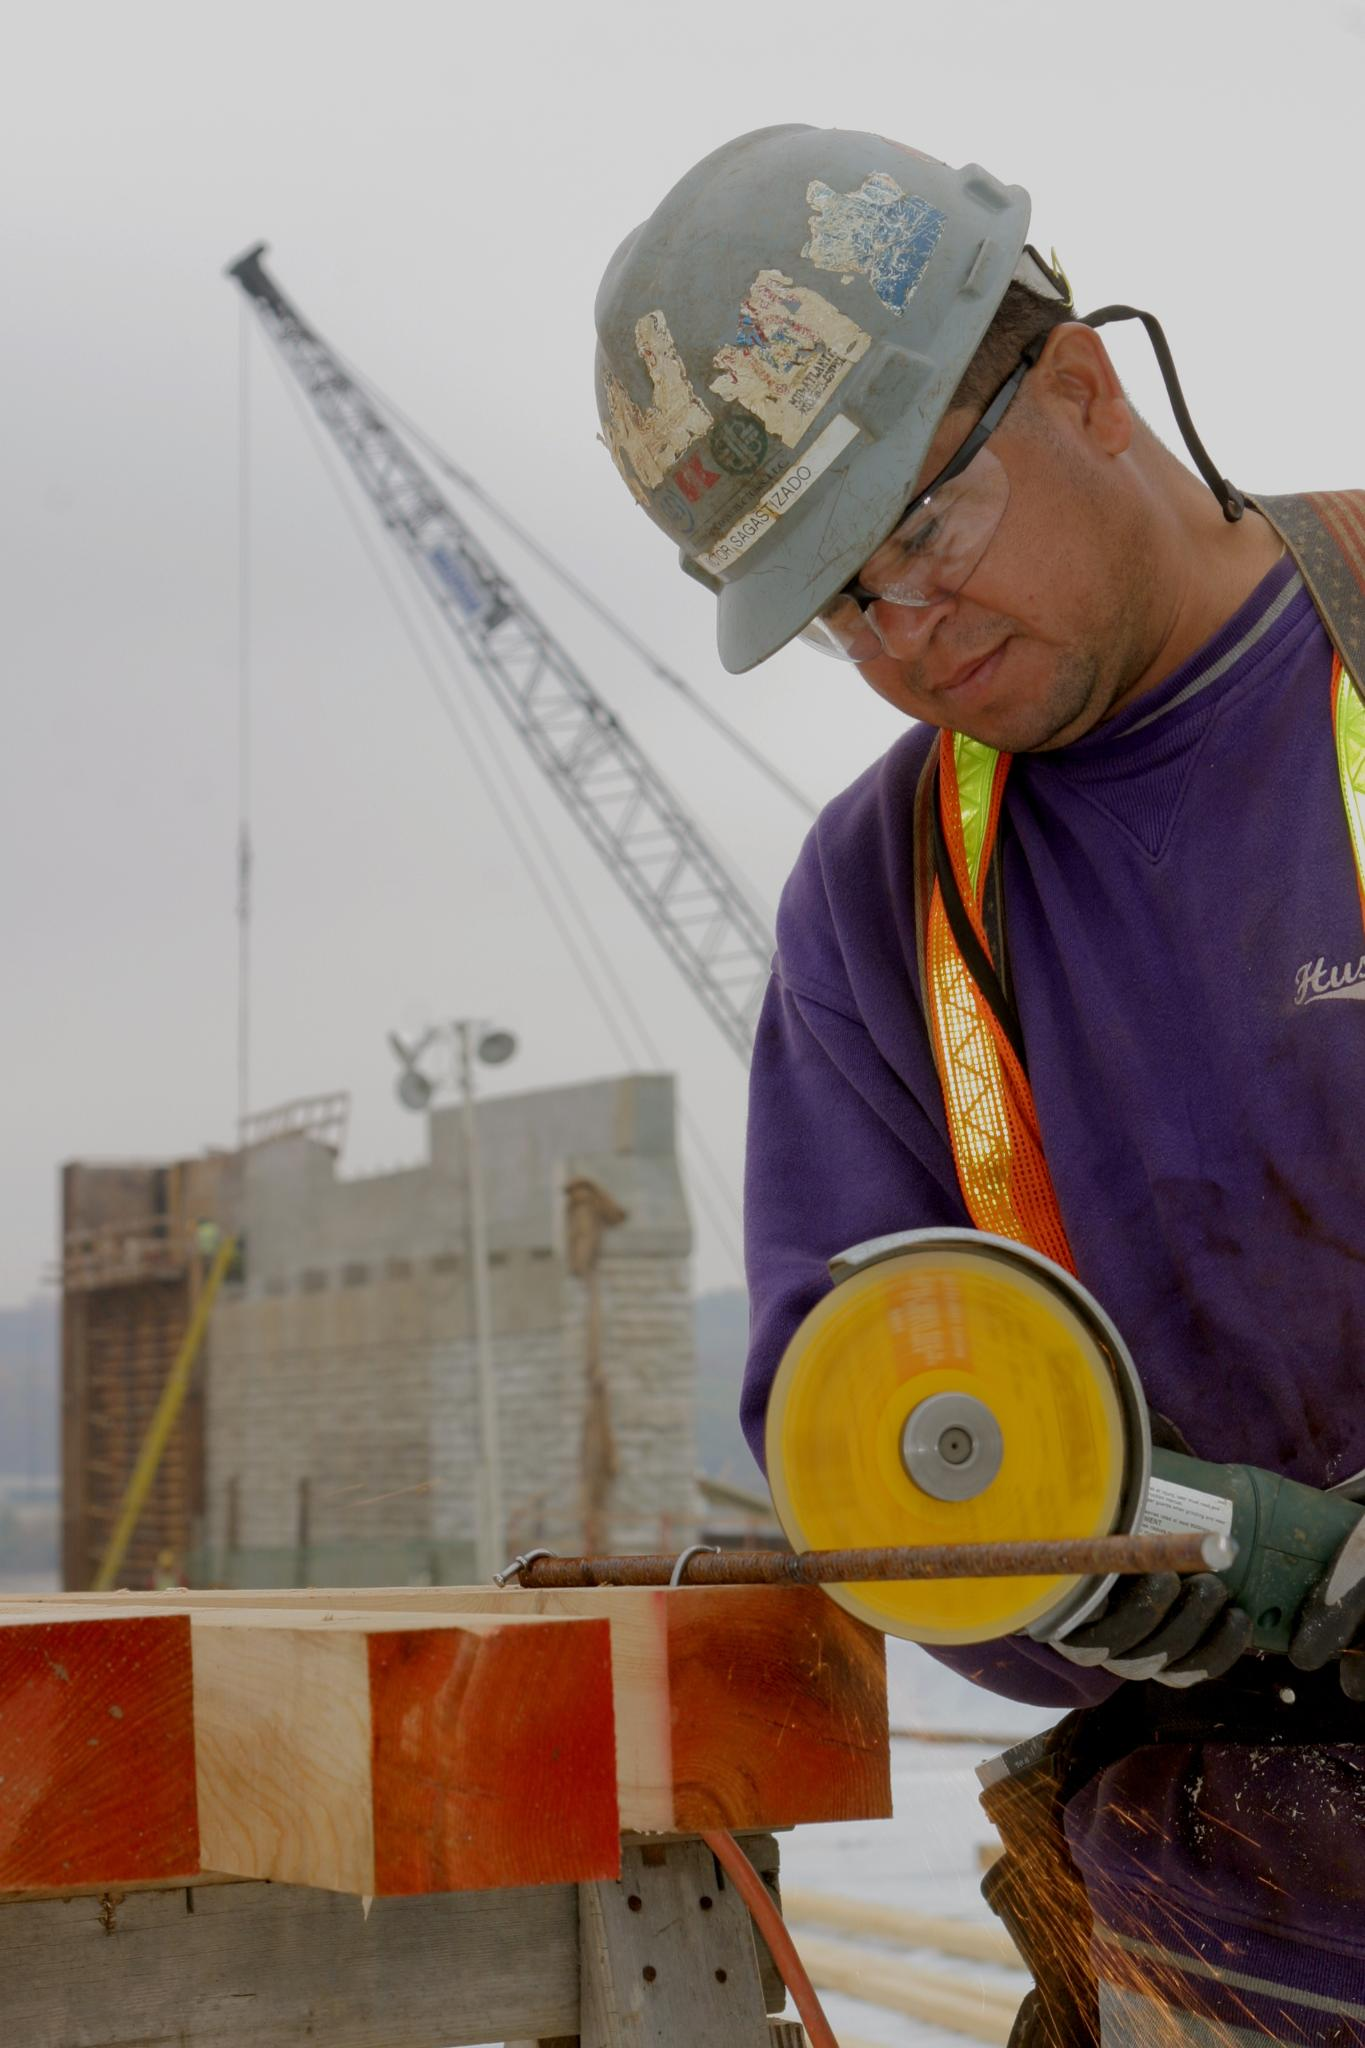helmet: (587, 104, 1027, 670)
wear: (746, 729, 1362, 1570)
